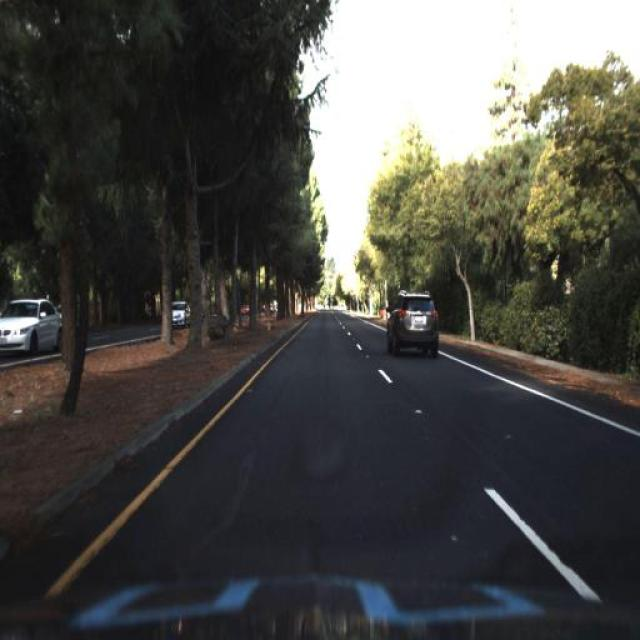car: (0, 296, 69, 356), (385, 292, 440, 353), (166, 292, 193, 334), (164, 298, 192, 328)
